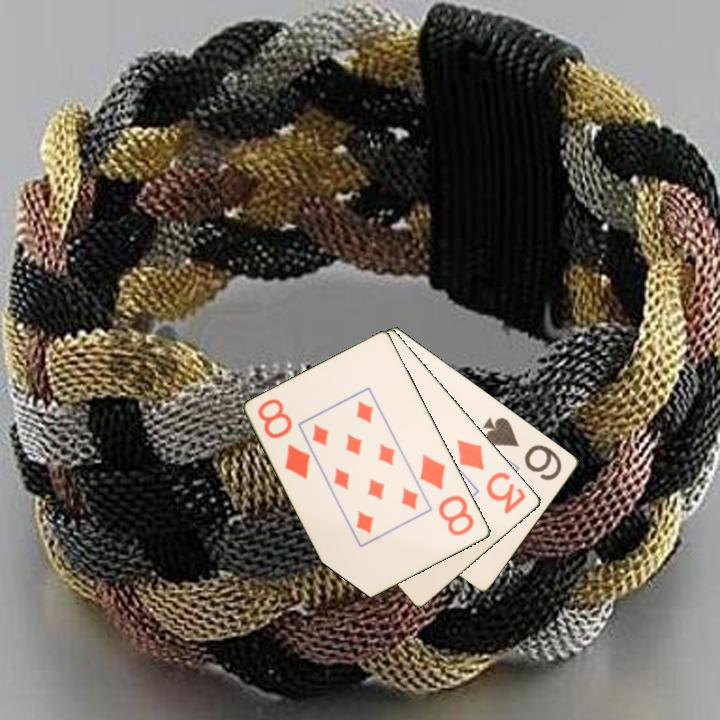3d: (453, 436, 529, 517)
6s: (479, 414, 565, 484)
8d: (416, 451, 477, 539), (254, 395, 314, 483)
